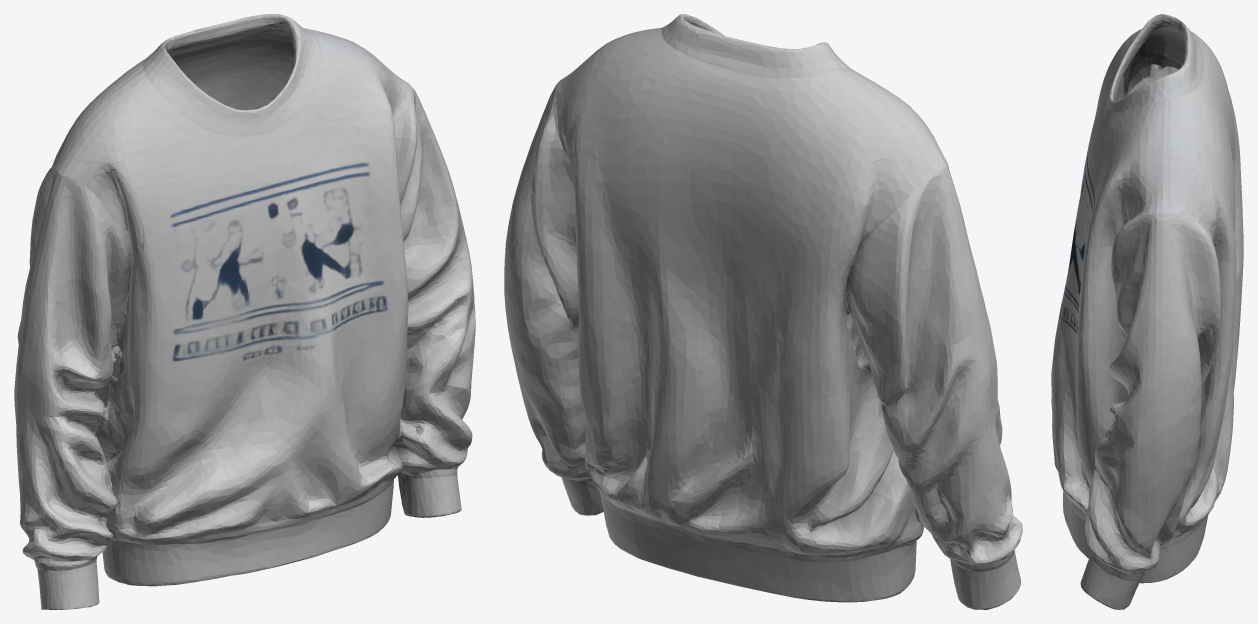
File: UNIQLO_Sweater.glb
3 renders of one model, left to right at view 1: azimuth 30°, elevation 25°; view 2: azimuth 150°, elevation 25°; view 3: azimuth 270°, elevation 25°, orthographic. The views are drawn at different scales.
Parts seen in each view (by area): view 1: world; view 2: world; view 3: world.
Part boxes in pixels (bbox=[...]): world: bbox=[14, 14, 475, 609]; world: bbox=[504, 14, 1022, 609]; world: bbox=[1051, 14, 1243, 609].
Size of the model in its own units: 0.9294 by 0.9981 by 0.3624.
1 material, 1 textured.
